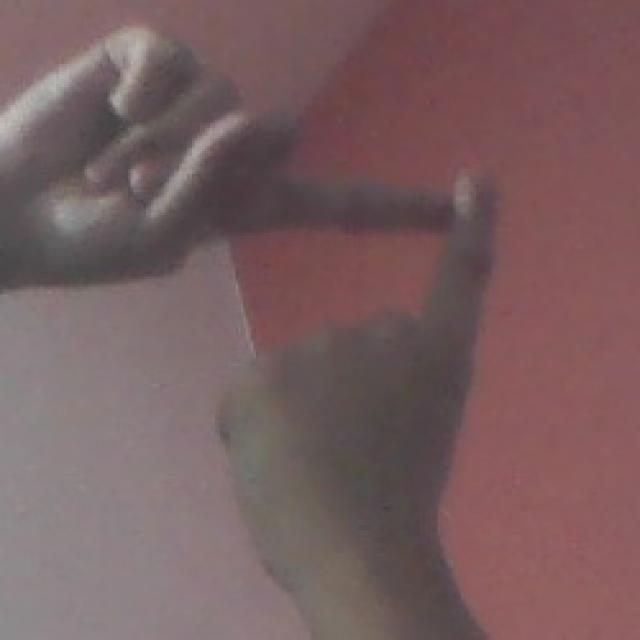Alphabet-E: (40, 23, 503, 608)
